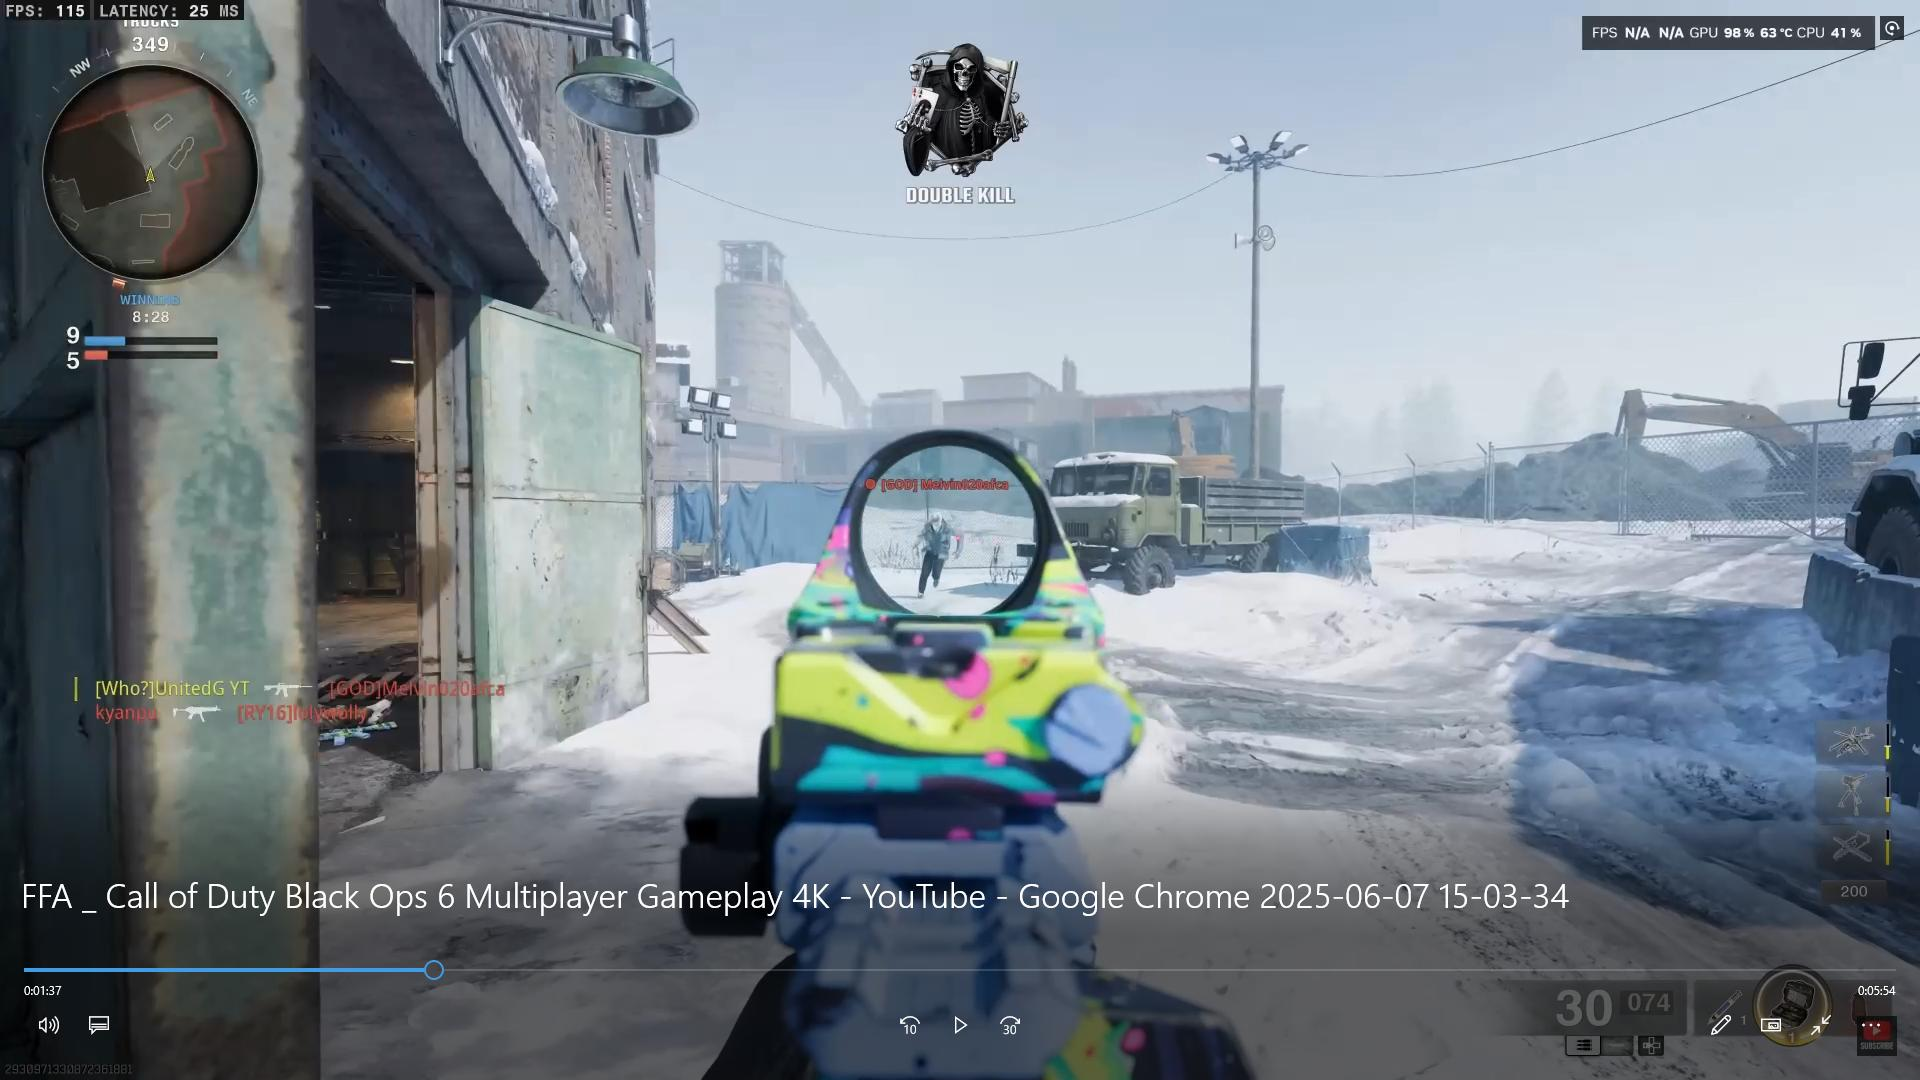Enemy: (903, 502, 965, 601)
